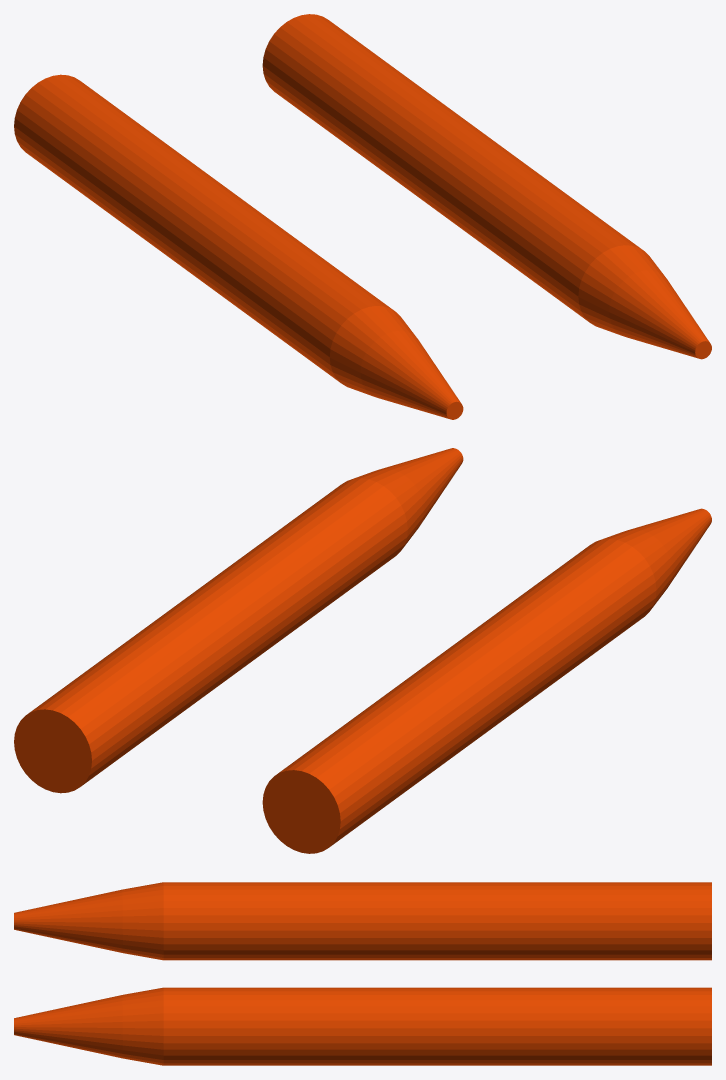
The model's file is AirPlane1_ballchild.glb.
3 views of the same model, one above another, from view 1: azimuth 30°, elevation 25°; view 2: azimuth 150°, elevation 25°; view 3: azimuth 270°, elevation 25° (orthographic). The views are drawn at different scales.
Parts seen in each view (by area): view 1: hackMissleballchild; view 2: hackMissleballchild; view 3: hackMissleballchild.
Boxes of the visible parts, left/top/right/bottom form: hackMissleballchild: left=14, top=14, right=711, bottom=419; hackMissleballchild: left=14, top=448, right=711, bottom=853; hackMissleballchild: left=14, top=882, right=711, bottom=1065.
Size of the model in its own units: 5.78 by 1.38 by 12.31.
